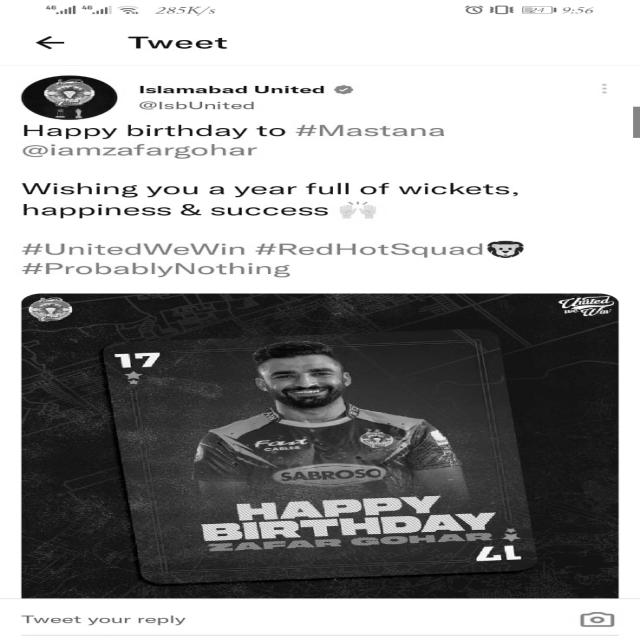CheckedTextView: (328, 81, 361, 99)
EditText: (2, 610, 302, 636)
ImageView: (20, 287, 633, 600)
TextView: (24, 177, 546, 220), (17, 238, 524, 274), (10, 121, 477, 158), (136, 83, 319, 96)
